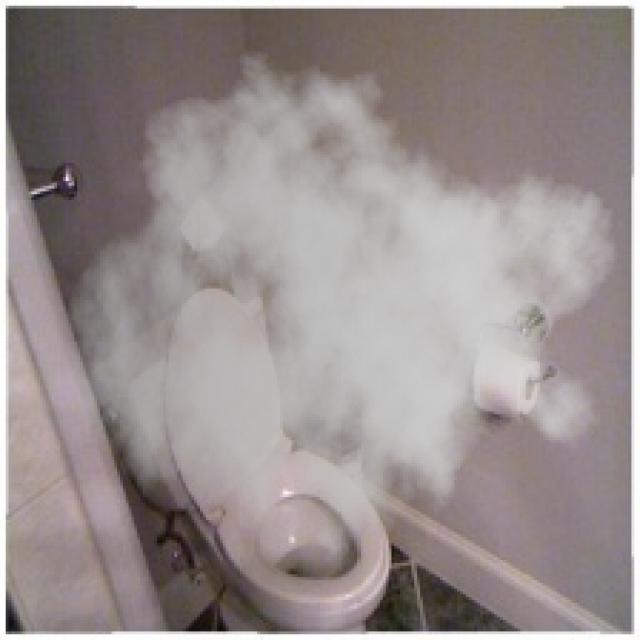smoke: (66, 37, 620, 594)
